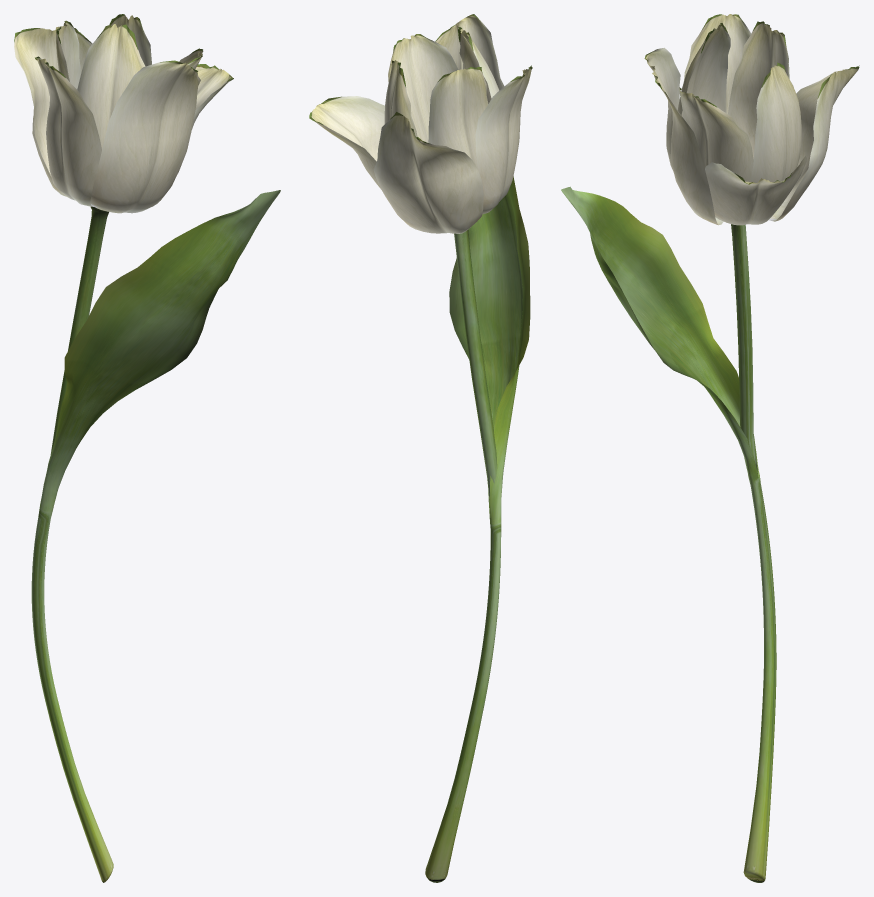
Rendered from flower3.glb.
3 renders of one model, left to right at view 1: azimuth 30°, elevation 25°; view 2: azimuth 150°, elevation 25°; view 3: azimuth 270°, elevation 25°, orthographic. The views are drawn at different scales.
Visible parts, largest first — view 1: SM_Flower; view 2: SM_Flower; view 3: SM_Flower.
Boxes of the visible parts, x1=… form: SM_Flower: x1=14, y1=14, x2=280, y2=882; SM_Flower: x1=309, y1=14, x2=532, y2=882; SM_Flower: x1=561, y1=14, x2=859, y2=882.
Size of the model in its own units: 0.098 by 0.3986 by 0.1264.
Materials: 5 (5 with a texture image).
